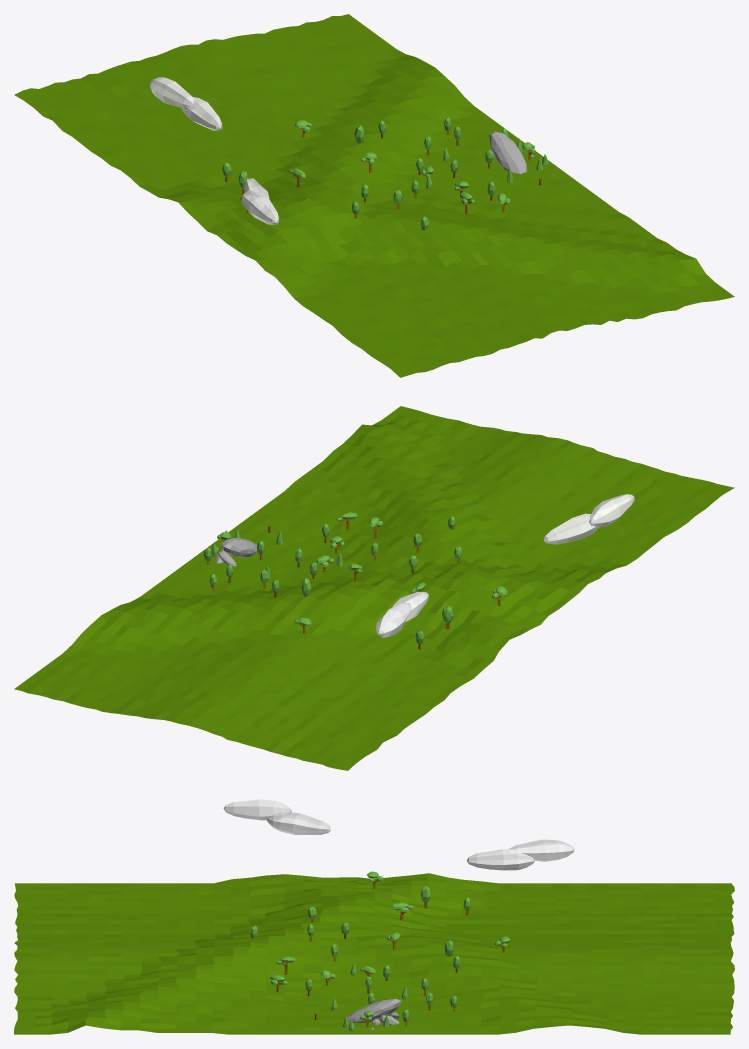
File: DécorPlaine01.fbx
3 views of the same model, one above another, from view 1: azimuth 30°, elevation 25°; view 2: azimuth 150°, elevation 25°; view 3: azimuth 270°, elevation 25° (orthographic). The views are drawn at different scales.
Parts seen in each view (by area): view 1: pPlane1, pSphere1, pSphere10, pSphere9, pasted__pSphere10; view 2: pPlane1, pasted__pSphere9, pasted__pSphere10, pSphere10, pSphere9; view 3: pPlane1, pSphere9, pasted__pSphere10, pSphere10, pasted__pSphere9, pSphere1.
Part boxes in pixels (<box>): pPlane1: <box>14,14,734,377</box>; pSphere1: <box>489,131,527,173</box>; pSphere10: <box>149,77,196,108</box>; pSphere9: <box>182,97,222,130</box>; pasted__pSphere10: <box>242,190,278,224</box>; pPlane1: <box>14,406,734,770</box>; pasted__pSphere9: <box>543,513,600,544</box>; pasted__pSphere10: <box>589,494,634,527</box>; pSphere10: <box>375,602,411,637</box>; pSphere9: <box>390,592,428,622</box>; pPlane1: <box>14,873,734,1034</box>; pSphere9: <box>466,849,534,870</box>; pasted__pSphere10: <box>223,799,291,820</box>; pSphere10: <box>507,839,574,861</box>; pasted__pSphere9: <box>266,812,330,834</box>; pSphere1: <box>347,998,401,1022</box>.
Bounding box in the file's own units: 211 × 53.73 × 402.
